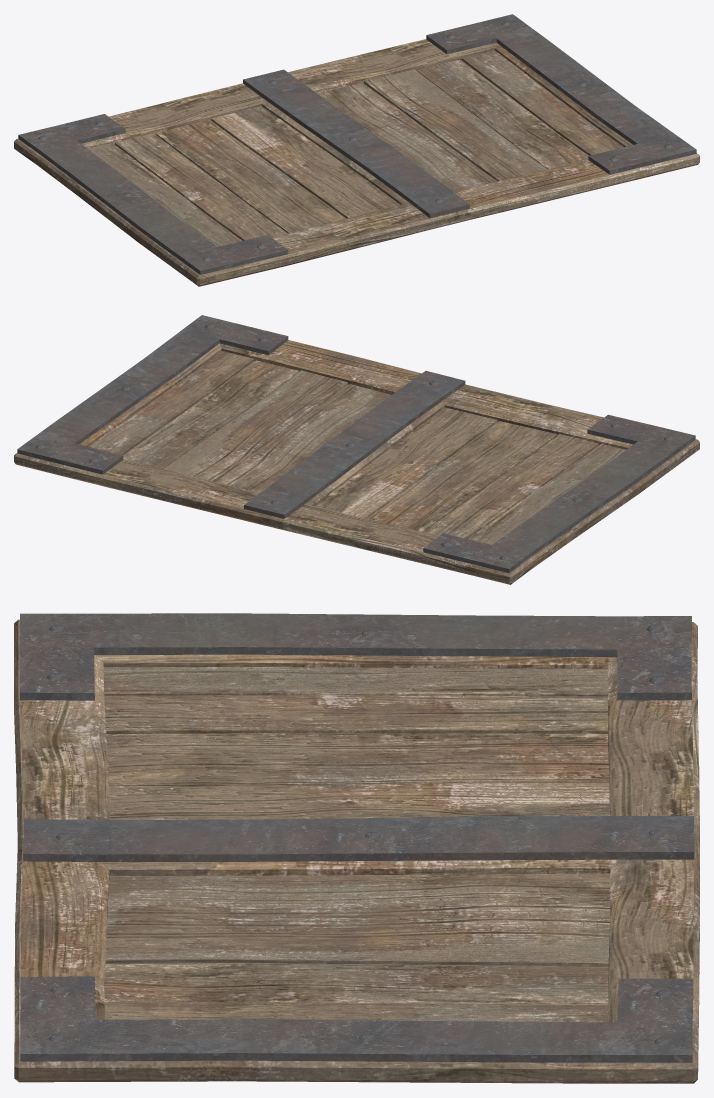
The model's file is SM_Crate_Lid_A_01.fbx.
The picture shows the model from 3 angles, top to bottom: view 1: azimuth 30°, elevation 25°; view 2: azimuth 150°, elevation 25°; view 3: azimuth 270°, elevation 25°; orthographic projection. The views are drawn at different scales.
Visible parts, largest first — view 1: SM_Crate_Lid_A_01_LOD0; view 2: SM_Crate_Lid_A_01_LOD0; view 3: SM_Crate_Lid_A_01_LOD0.
Boxes of the visible parts, x1=… form: SM_Crate_Lid_A_01_LOD0: x1=14, y1=14, x2=699, y2=286; SM_Crate_Lid_A_01_LOD0: x1=14, y1=315, x2=699, y2=584; SM_Crate_Lid_A_01_LOD0: x1=14, y1=613, x2=699, y2=1083.
Size of the model in its own units: 89.28 by 57.81 by 3.06.
Materials: 2 (2 with a texture image).
